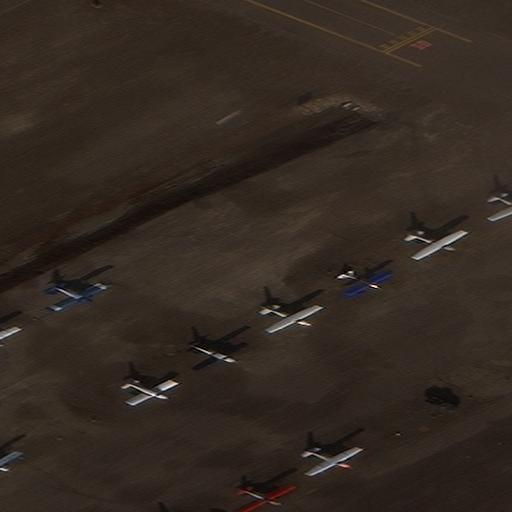Small Civil Transport: (260, 304, 324, 334), (406, 232, 467, 260), (52, 284, 108, 312), (305, 448, 363, 475), (235, 486, 295, 511), (189, 344, 247, 369), (341, 273, 393, 298), (125, 381, 179, 405), (492, 195, 512, 221), (0, 453, 23, 473)
